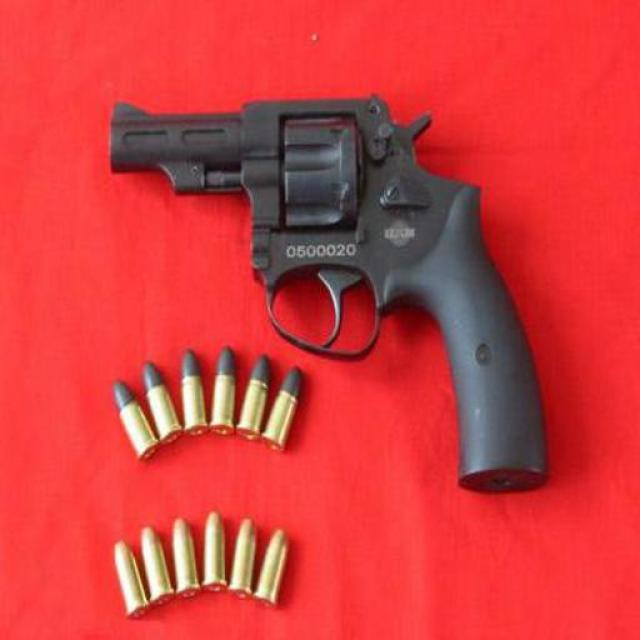pistol: (108, 94, 544, 494)
